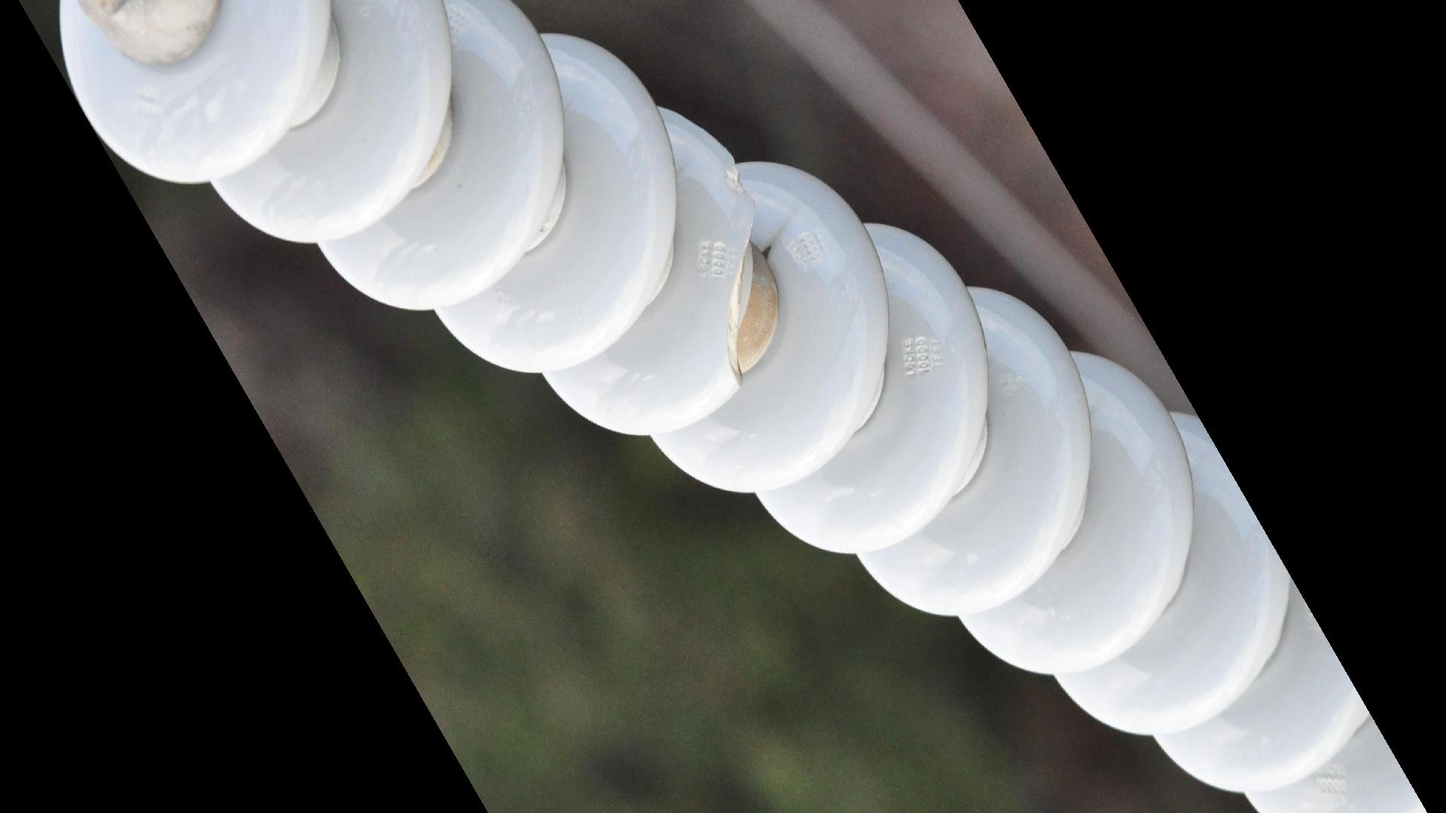insulator: (46, 1, 1429, 813)
insulator_breakage: (704, 152, 774, 406)
